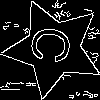C: (28, 23, 83, 68)
